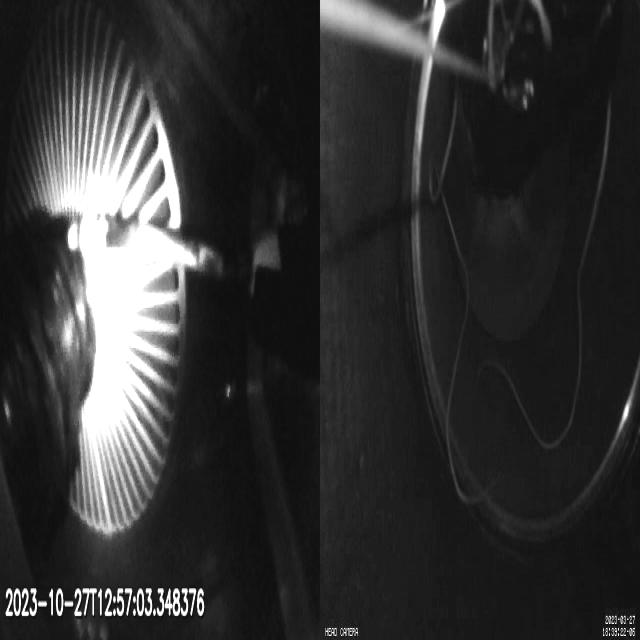white-dots: (68, 211, 107, 254)
